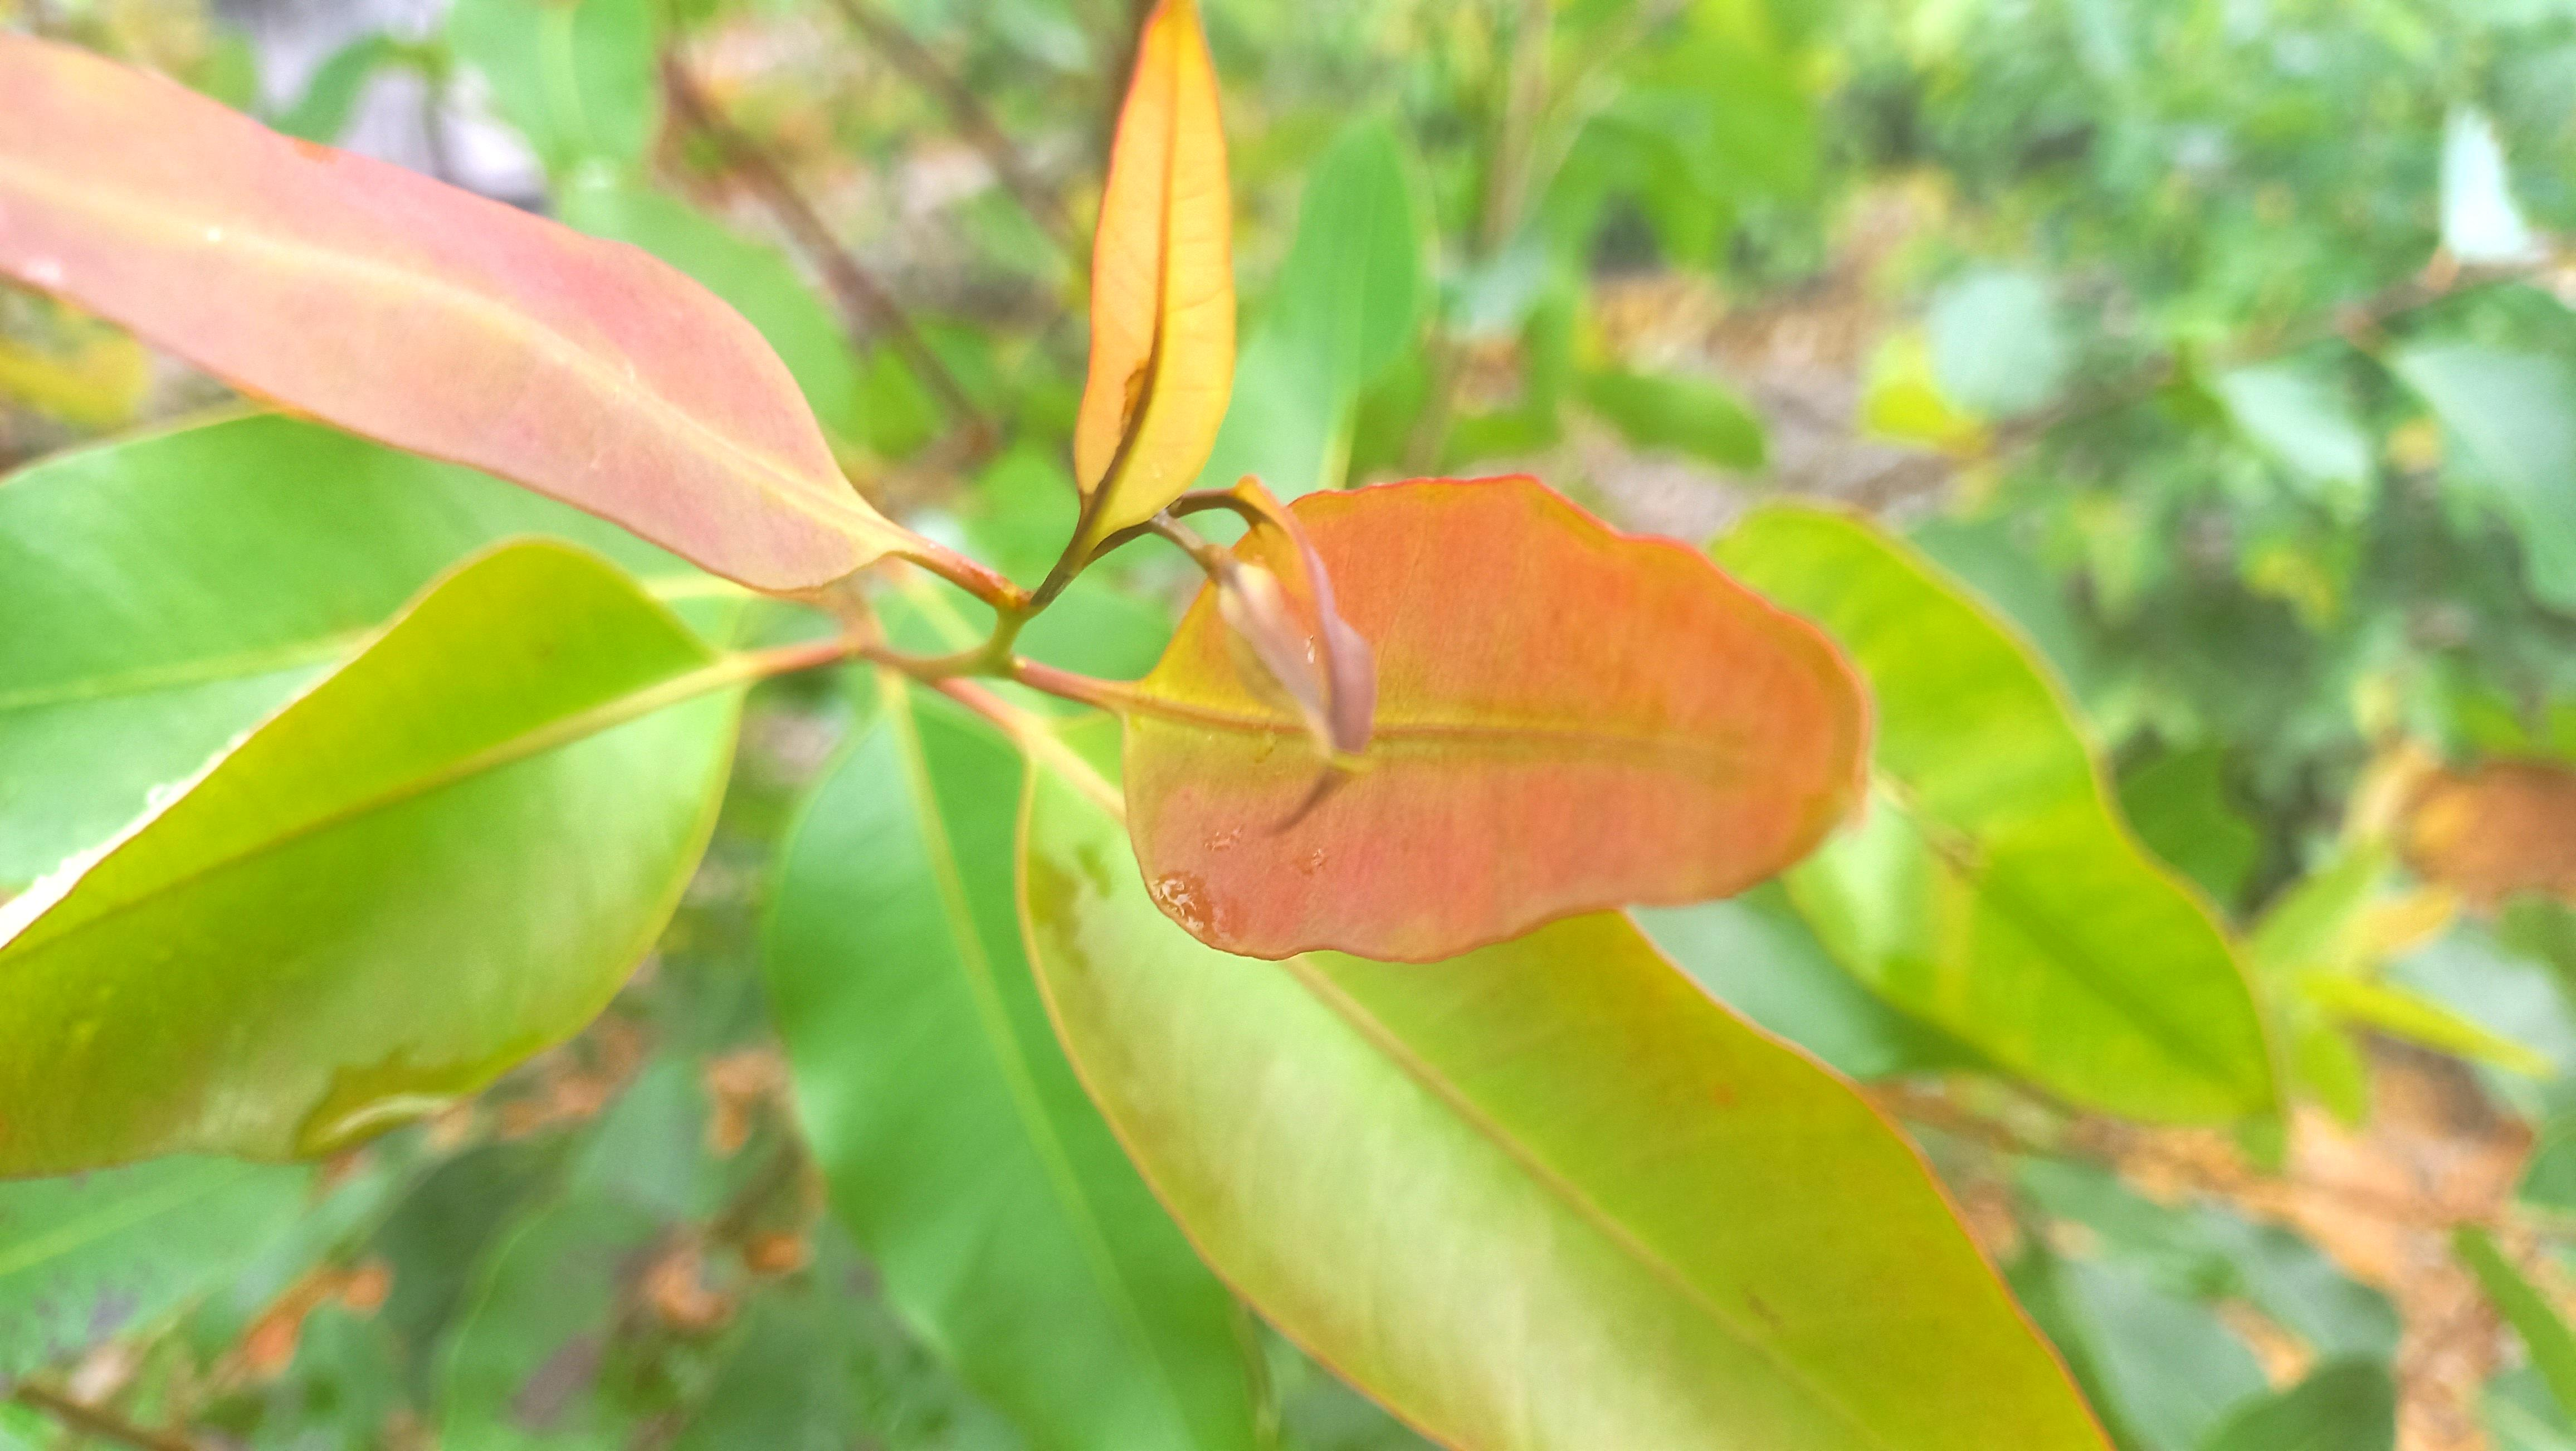Helopeltis-Withered Sprout: (1125, 474, 1936, 957), (1212, 561, 1385, 795), (1277, 563, 1380, 844)
